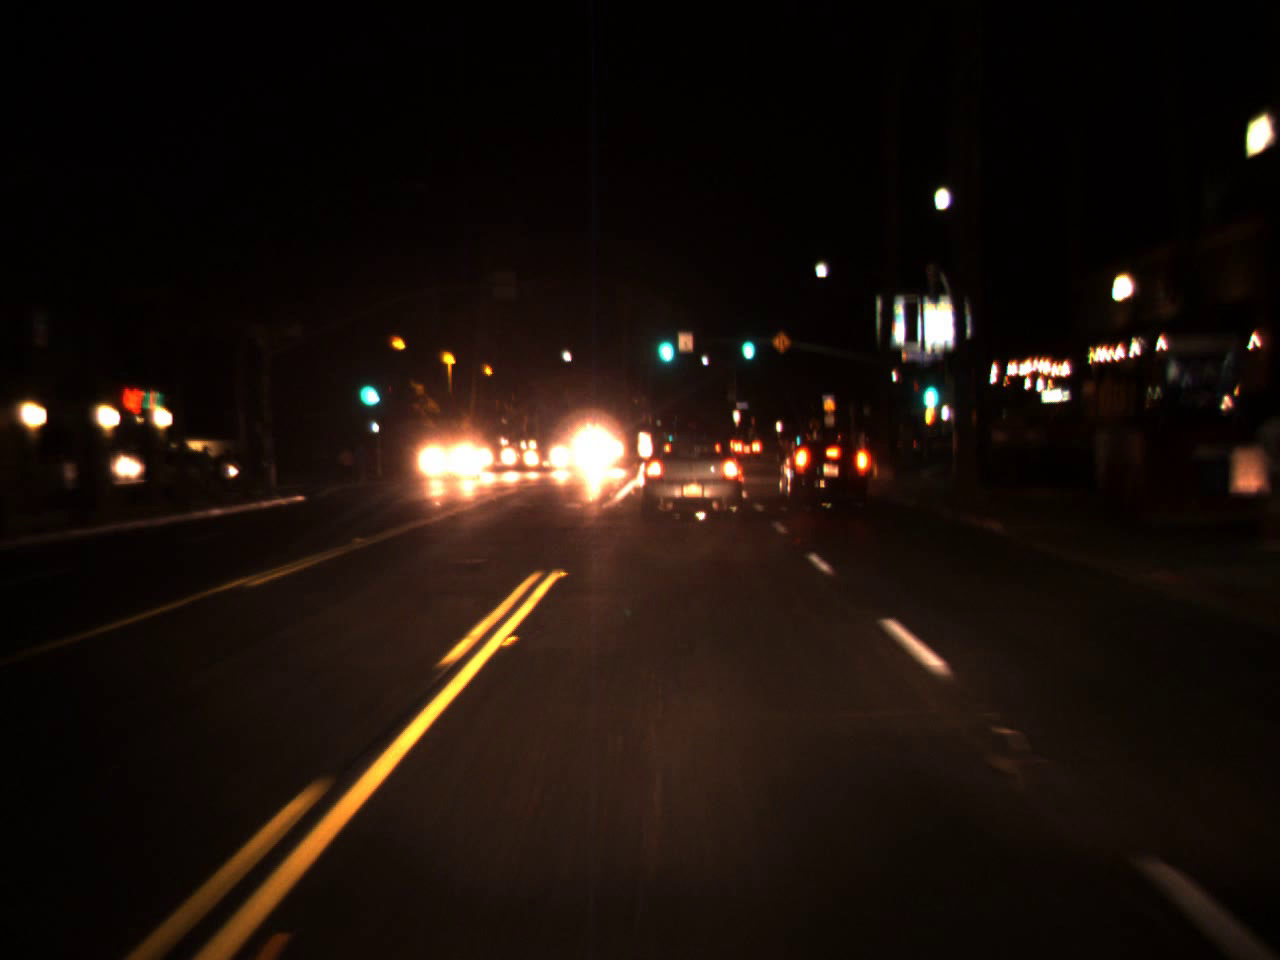go: (353, 360, 380, 414), (652, 316, 677, 370), (918, 359, 939, 416), (737, 324, 756, 360)
